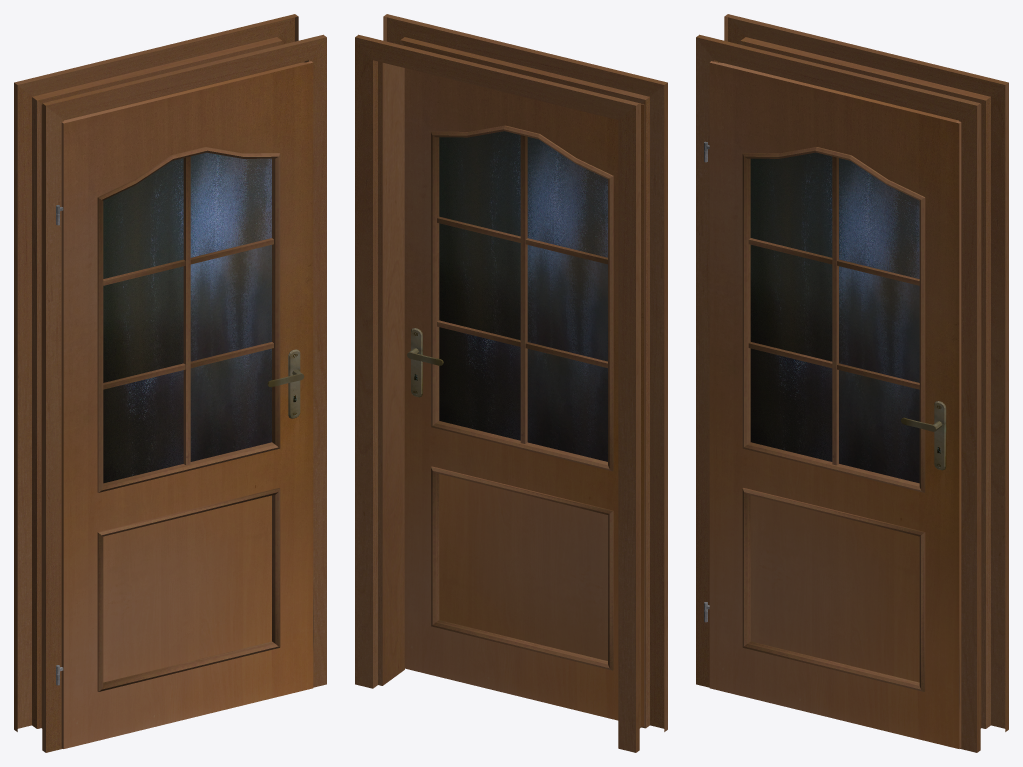
File: door.glb
3 views of the same model, side by side, from view 1: azimuth 30°, elevation 25°; view 2: azimuth 150°, elevation 25°; view 3: azimuth 330°, elevation 25° (orthographic).
Parts seen in each view (by area): view 1: Door, Door Frame; view 2: Door, Door Frame; view 3: Door, Door Frame.
Part boxes in pixels (x1=…): Door: x1=56, y1=61, x2=313, y2=748; Door Frame: x1=14, y1=14, x2=326, y2=752; Door: x1=404, y1=68, x2=644, y2=726; Door Frame: x1=355, y1=14, x2=667, y2=752; Door: x1=704, y1=61, x2=961, y2=748; Door Frame: x1=696, y1=14, x2=1008, y2=752.
Size of the model in its own units: 0.945 by 2.08 by 0.2387.
Materials: 2 (2 with a texture image).
